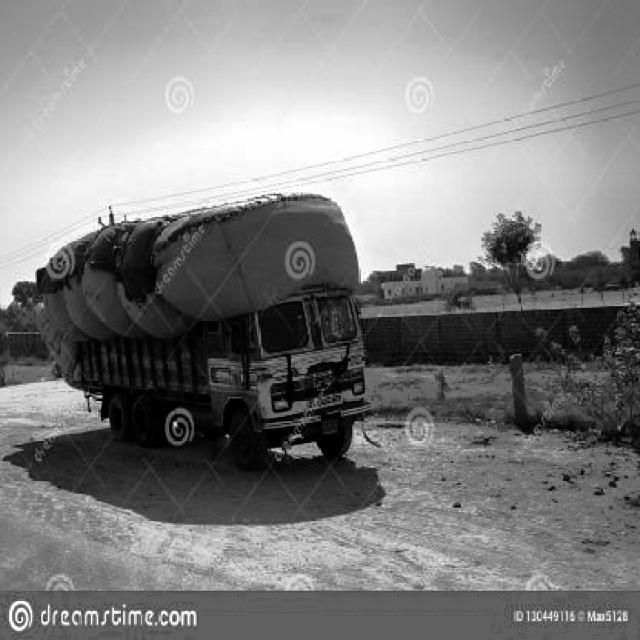HCV: (55, 220, 373, 462)
